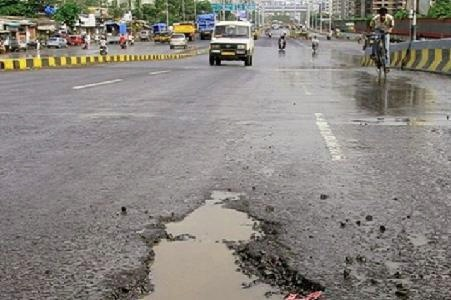pothole: (103, 195, 327, 299)
